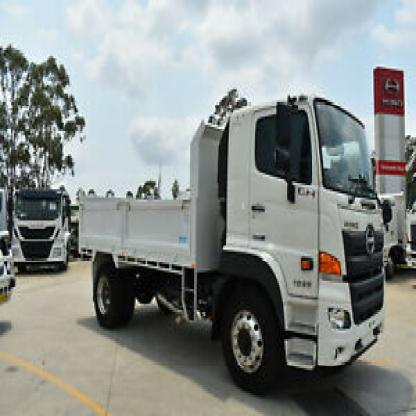dump_truck: (75, 81, 396, 385), (10, 177, 70, 279)
